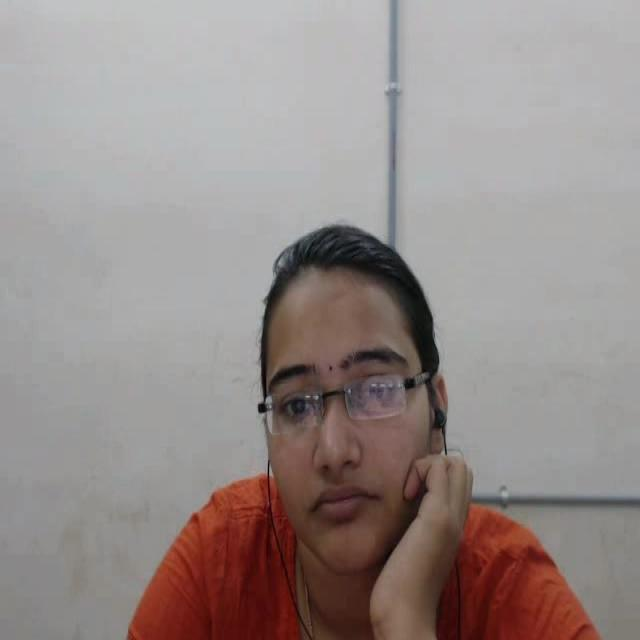Bored: (236, 200, 475, 596)
